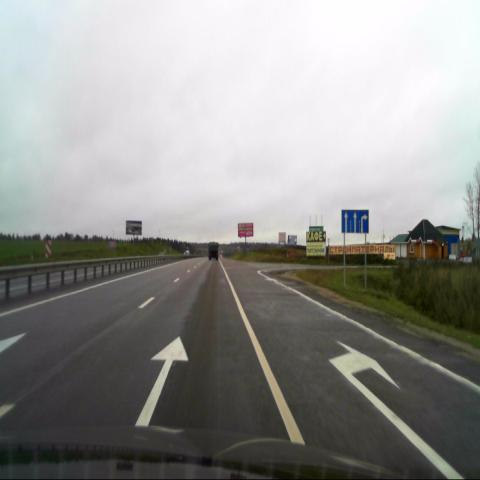5_15_1: (342, 210, 368, 233)
